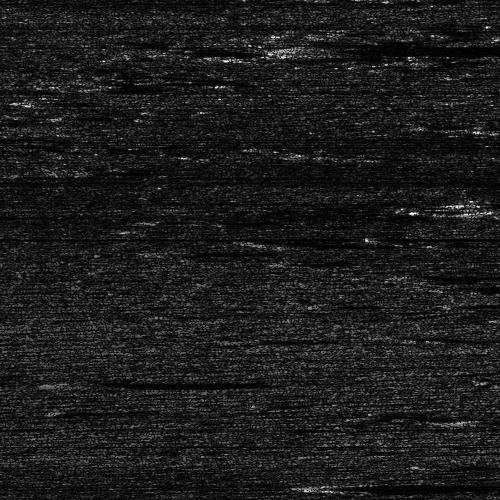rock: (116, 29, 500, 68), (139, 38, 336, 77), (440, 206, 500, 217), (277, 482, 350, 491), (125, 248, 198, 255), (190, 336, 263, 343), (434, 414, 500, 421), (439, 299, 480, 304), (65, 381, 106, 384)
shadow: (314, 29, 500, 68), (238, 38, 356, 77), (314, 482, 500, 491), (227, 336, 313, 343), (86, 381, 286, 384), (162, 248, 243, 255), (471, 414, 500, 421), (460, 299, 500, 304)
